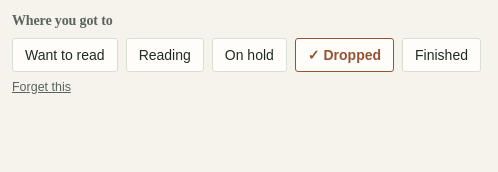
Test case: ReadingStatusControl › forgets a recorded state
This screenshot has width=498, height=172.
Click the button "Forget this": (41, 86) x1=12 y1=80 x2=71 y2=94
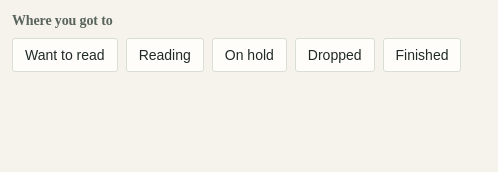
Expected: the button "Forget this" is gone
